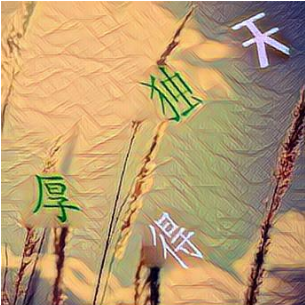hanzi: (226, 10, 302, 76), (141, 61, 211, 127), (142, 210, 214, 273), (19, 171, 88, 227)
